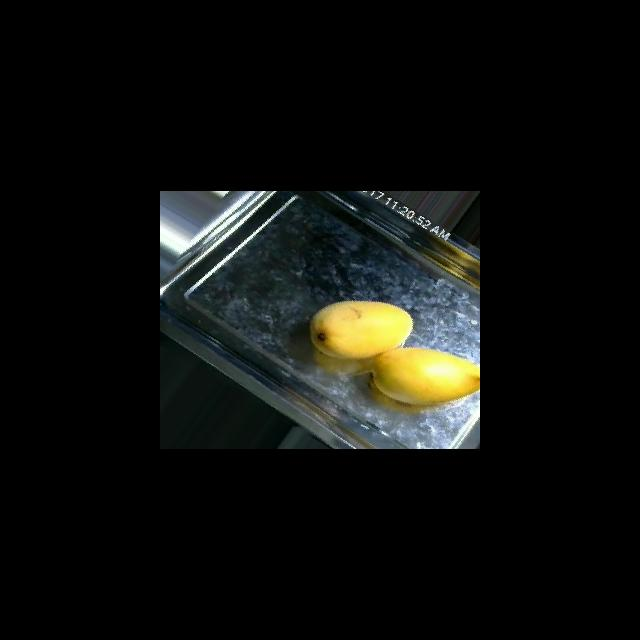Mango: (371, 346, 479, 406), (309, 299, 413, 359)
